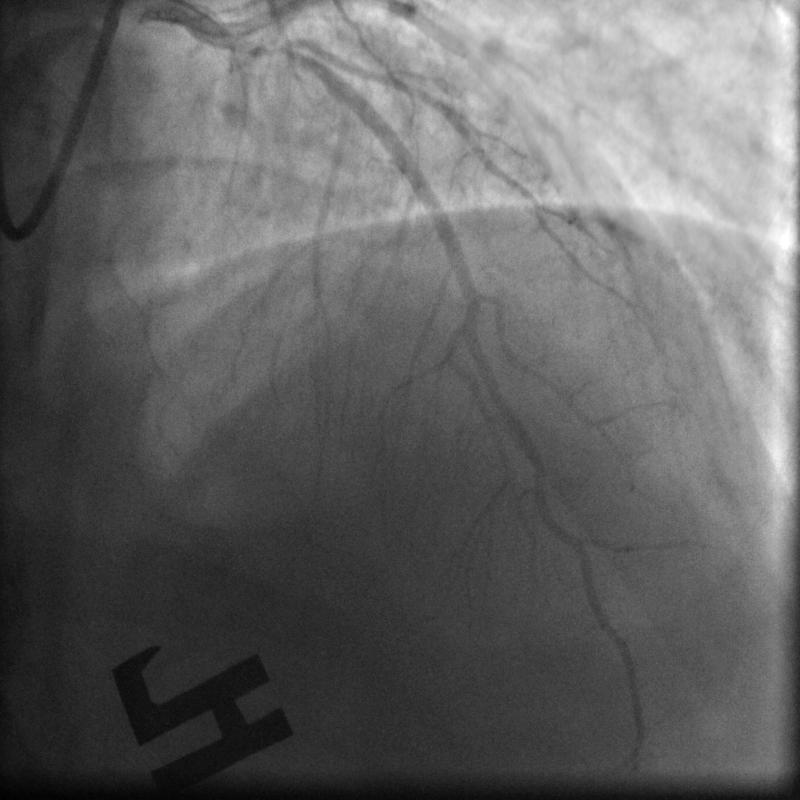Stenosis: (231, 33, 303, 61)
